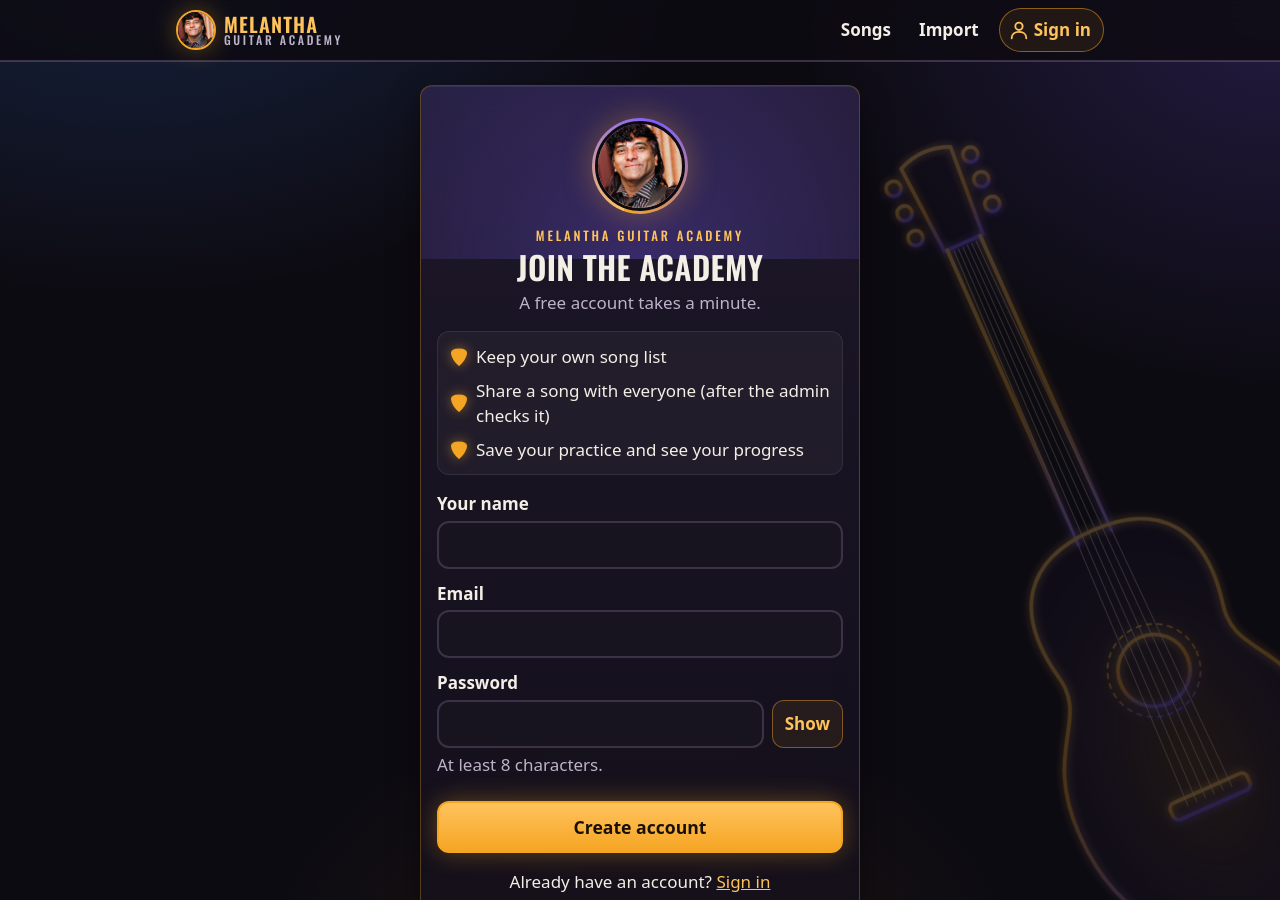
accounts › checks the form at once, before asking the server
Click the button "Create account" at (640, 828), box top-left (437, 802), bottom-right (843, 854)
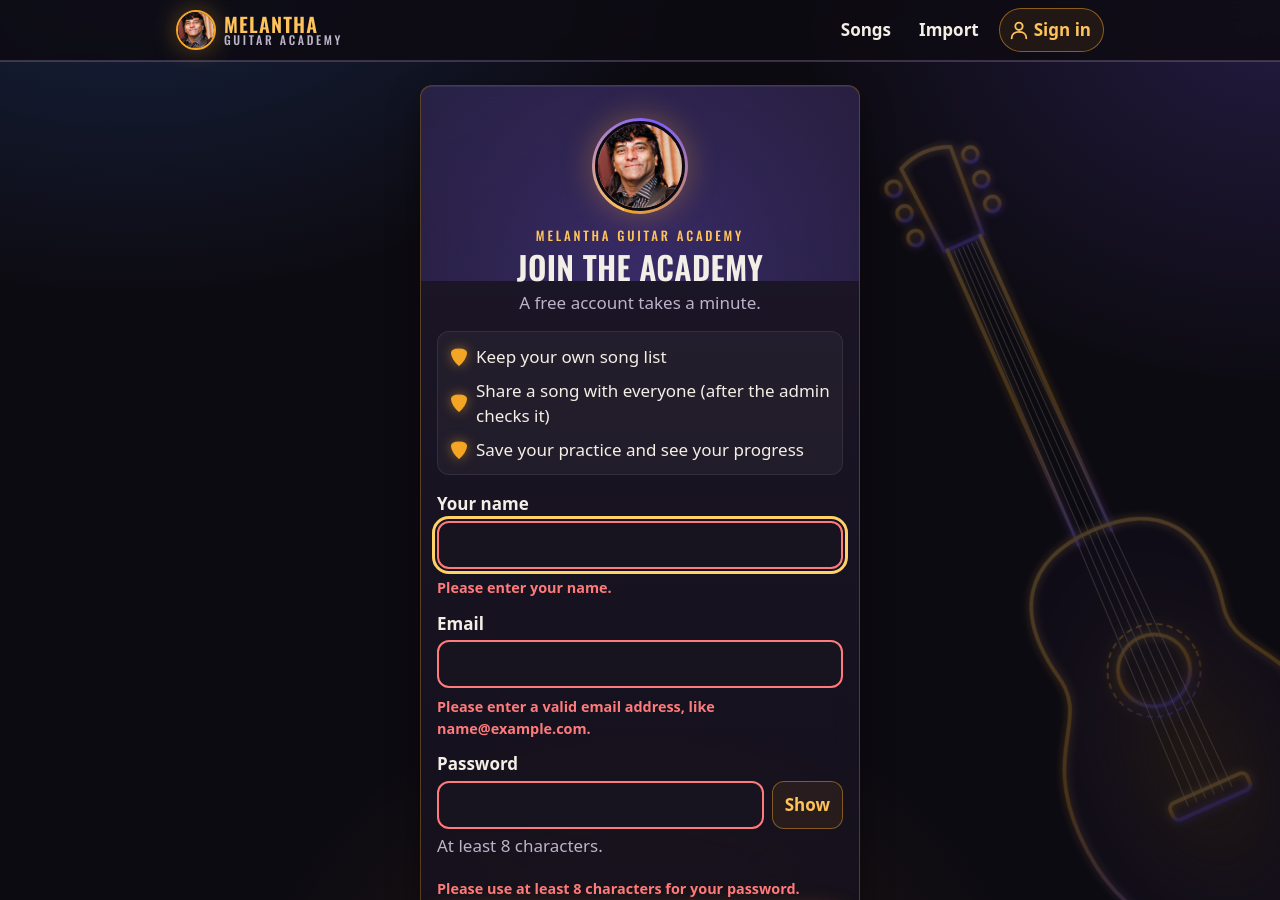
expect the text "Please enter your name." is shown: met, box top-left (437, 578), bottom-right (612, 597)
expect the text "Please enter a valid email address, like name@example.com." is shown: met, box top-left (437, 697), bottom-right (715, 738)
expect the text "Please use at least 8 characters for your password." is shown: met, box top-left (437, 878), bottom-right (843, 899)
